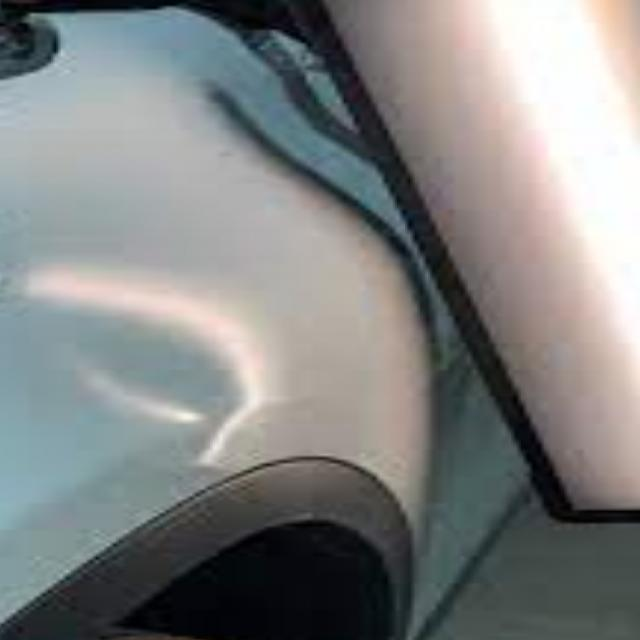dents: (1, 258, 288, 469)
